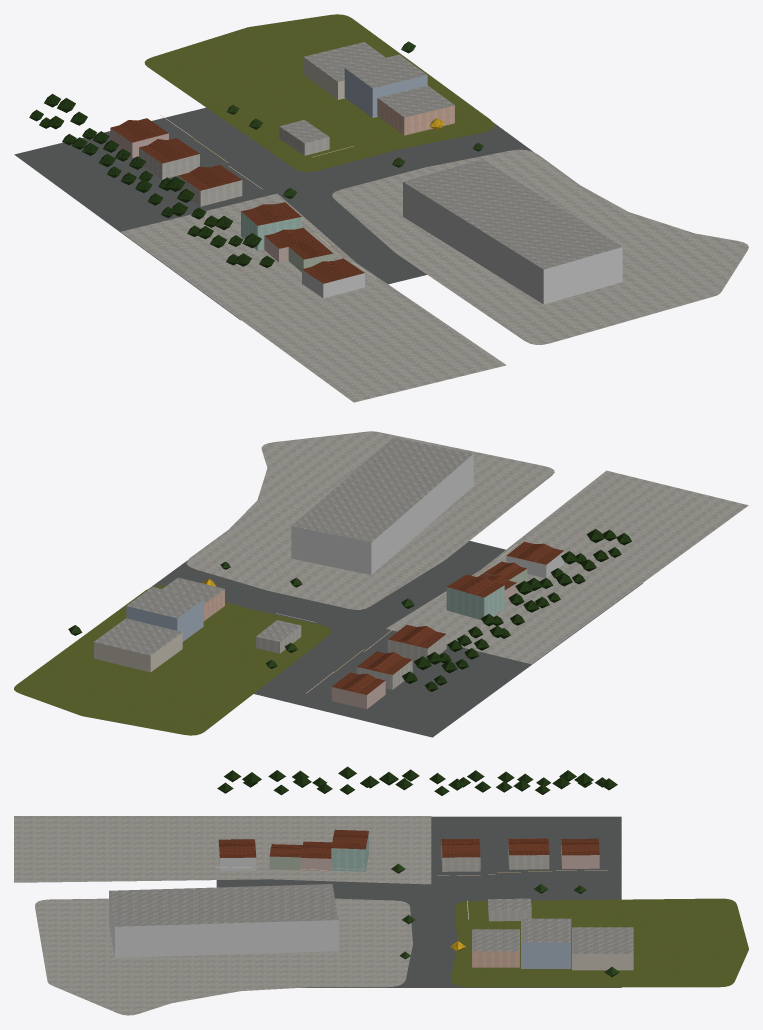
Rendered from cidade_S00_03_lod.gltf.
3 views of the same model, one above another, from view 1: azimuth 30°, elevation 25°; view 2: azimuth 150°, elevation 25°; view 3: azimuth 270°, elevation 25° (orthographic). The views are drawn at different scales.
Parts seen in each view (by area): view 1: S00_03_Chao_LOD2, S00_03_Edificios_LOD1, S00_03_Silhueta_LOD2, S00_03_Vegetacao_LOD2; view 2: S00_03_Chao_LOD2, S00_03_Edificios_LOD1, S00_03_Silhueta_LOD2, S00_03_Vegetacao_LOD2; view 3: S00_03_Chao_LOD2, S00_03_Edificios_LOD1, S00_03_Silhueta_LOD2, S00_03_Vegetacao_LOD2.
Part boxes in pixels (x1,y1,x2,y2): S00_03_Chao_LOD2: (14, 14, 748, 402); S00_03_Edificios_LOD1: (110, 42, 622, 304); S00_03_Silhueta_LOD2: (110, 118, 364, 298); S00_03_Vegetacao_LOD2: (29, 41, 483, 267); S00_03_Chao_LOD2: (14, 431, 748, 737); S00_03_Edificios_LOD1: (94, 437, 563, 709); S00_03_Silhueta_LOD2: (331, 541, 564, 708); S00_03_Vegetacao_LOD2: (68, 529, 631, 691); S00_03_Chao_LOD2: (14, 816, 748, 1015); S00_03_Edificios_LOD1: (109, 834, 633, 970); S00_03_Silhueta_LOD2: (218, 829, 599, 871); S00_03_Vegetacao_LOD2: (217, 766, 619, 976).
Size of the model in its own units: 117 by 15.99 by 181.
Materials: 20 (20 with a texture image).
